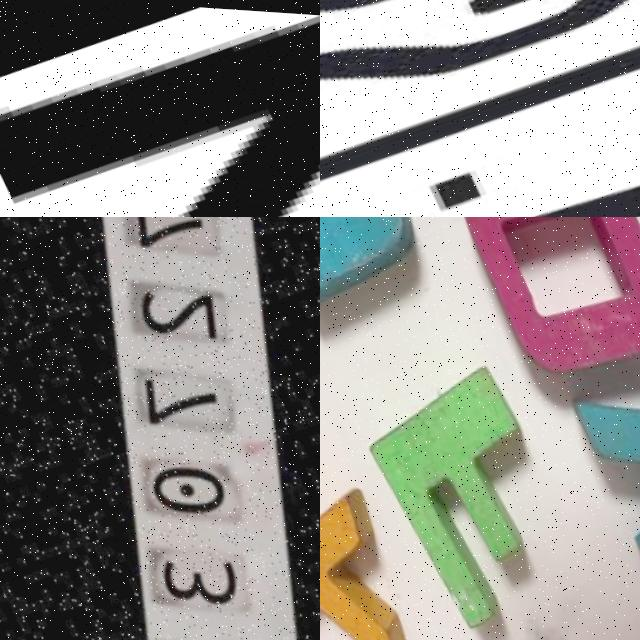0: (104, 415, 251, 548), (117, 594, 269, 640)
2: (96, 238, 246, 373)
3: (113, 505, 258, 638)
6: (320, 0, 631, 123)
7: (101, 328, 246, 461), (95, 217, 231, 279)
F: (342, 351, 584, 634)
J: (320, 217, 434, 317)
O: (432, 217, 640, 395)
S: (320, 0, 640, 200)
T: (320, 0, 640, 217)
V: (320, 103, 640, 217), (558, 327, 640, 608)
W: (0, 0, 320, 217)
X: (320, 406, 435, 640)
